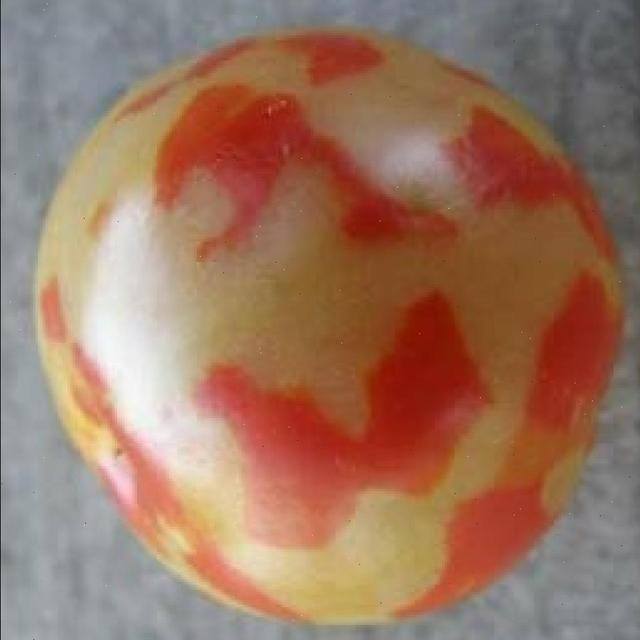Spotted wilt Virus Fruit: (16, 152, 150, 550)
